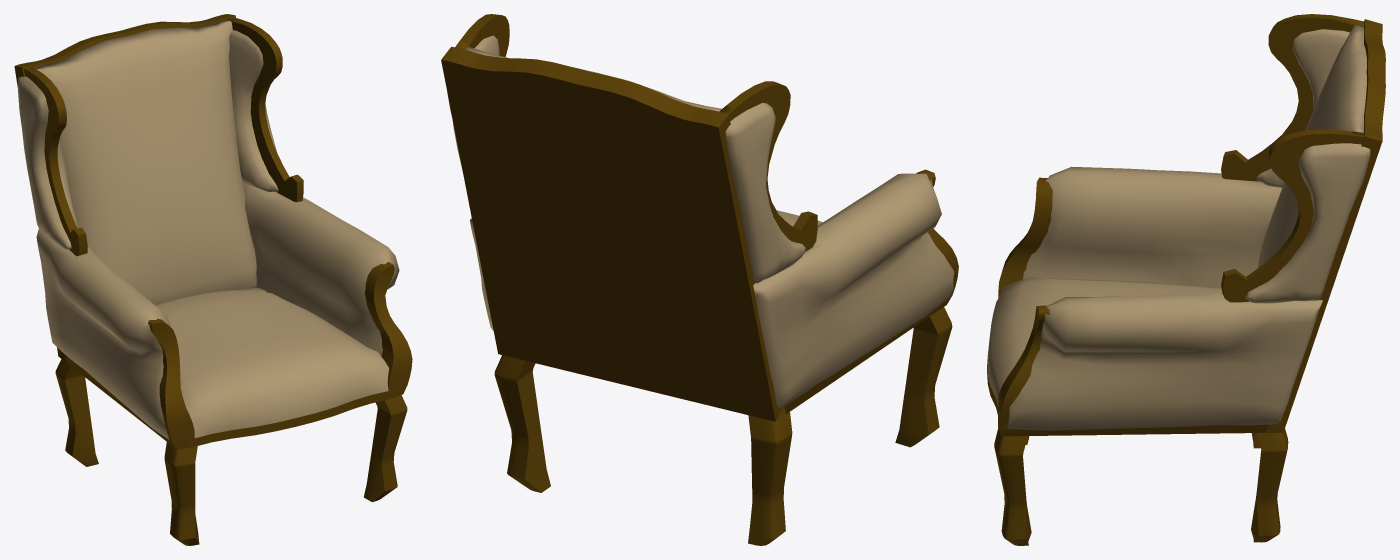
File: mesh_Lounge_Chair.fbx
3 renders of one model, left to right at view 1: azimuth 30°, elevation 25°; view 2: azimuth 150°, elevation 25°; view 3: azimuth 270°, elevation 25°, orthographic. The views are drawn at different scales.
Parts seen in each view (by area): view 1: model_Lounge_Chair; view 2: model_Lounge_Chair; view 3: model_Lounge_Chair.
Part boxes in pixels (bbox=[...]): model_Lounge_Chair: bbox=[14, 14, 412, 545]; model_Lounge_Chair: bbox=[441, 14, 958, 545]; model_Lounge_Chair: bbox=[987, 14, 1385, 545].
Size of the model in its own units: 84.89 by 110 by 93.98.
